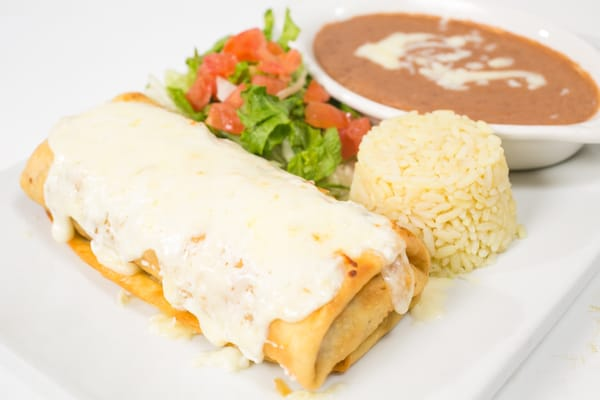soup: (18, 89, 427, 389)
sushi: (306, 10, 600, 171)
